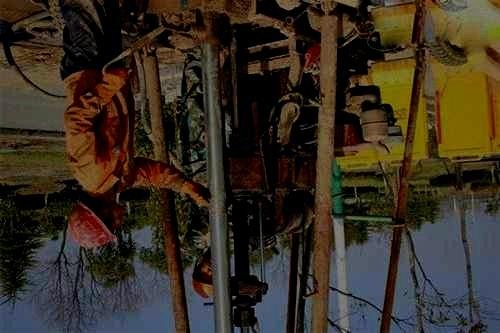helmet: (67, 196, 126, 249), (191, 247, 214, 300)
